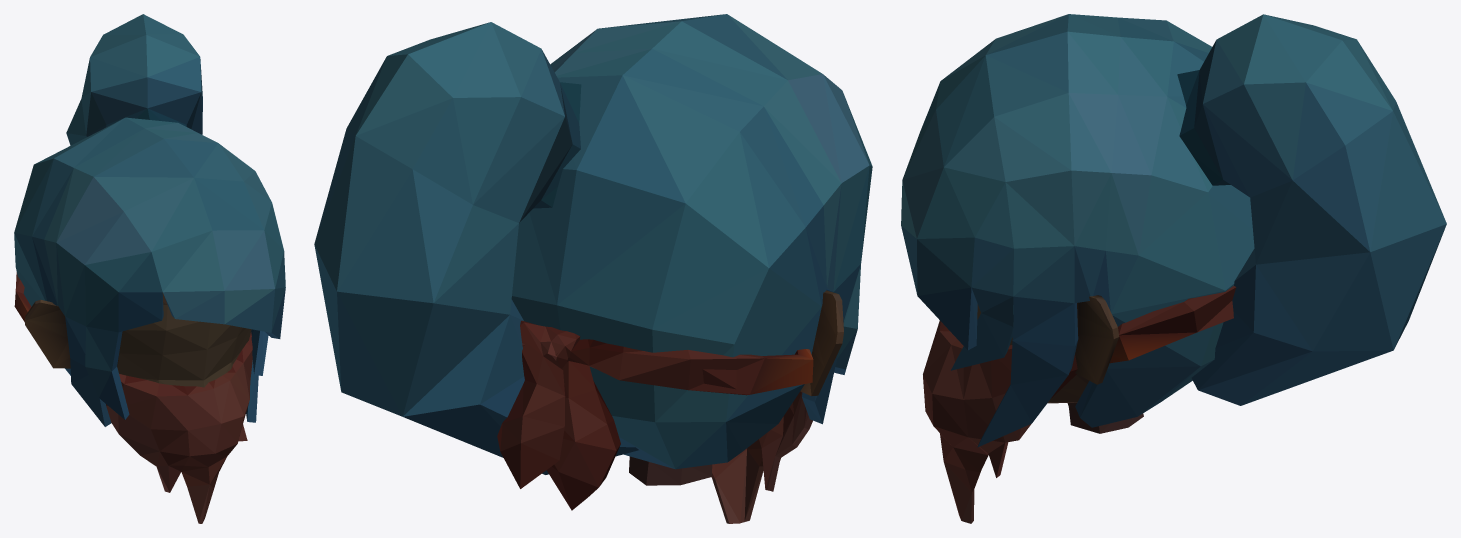
File: helm_darkskin_ponytail_blue_bandana.fbx
The picture shows the model from 3 angles, left to right: view 1: azimuth 30°, elevation 25°; view 2: azimuth 150°, elevation 25°; view 3: azimuth 270°, elevation 25°; orthographic projection. The views are drawn at different scales.
Visible parts, largest first — view 1: helm_darkskin_ponytail_blue_bandana; view 2: helm_darkskin_ponytail_blue_bandana; view 3: helm_darkskin_ponytail_blue_bandana.
Boxes of the visible parts, left/top/right/bottom form: helm_darkskin_ponytail_blue_bandana: left=14, top=14, right=285, bottom=523; helm_darkskin_ponytail_blue_bandana: left=314, top=14, right=872, bottom=523; helm_darkskin_ponytail_blue_bandana: left=901, top=14, right=1446, bottom=523.
Size of the model in its own units: 1.21 by 1.8 by 1.64.
